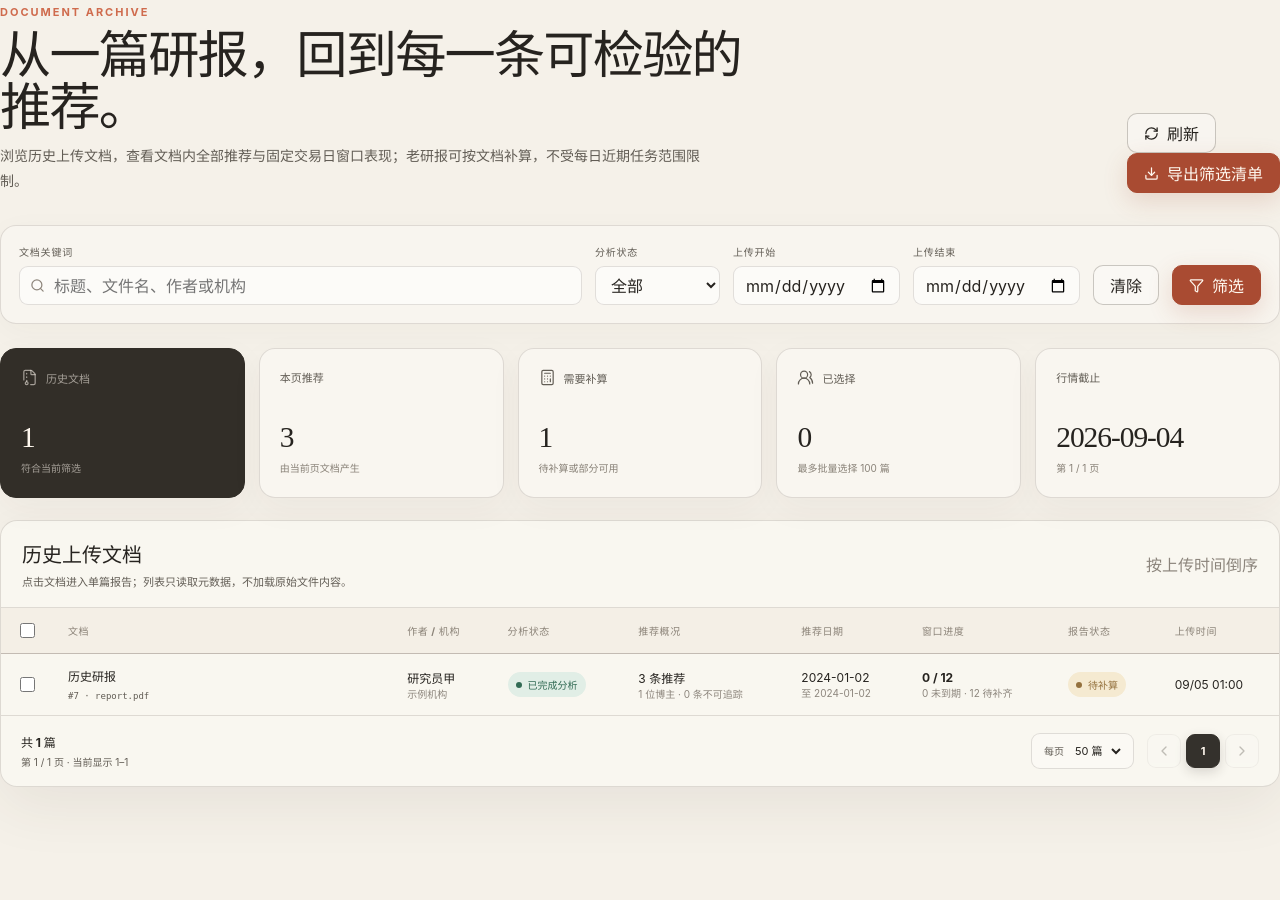
Test: DocumentReportsView › lists historical documents and submits selected documents for evaluation
Click the checkbox named "选择文档 7".
click(28, 685)  # box [20, 677, 35, 692]
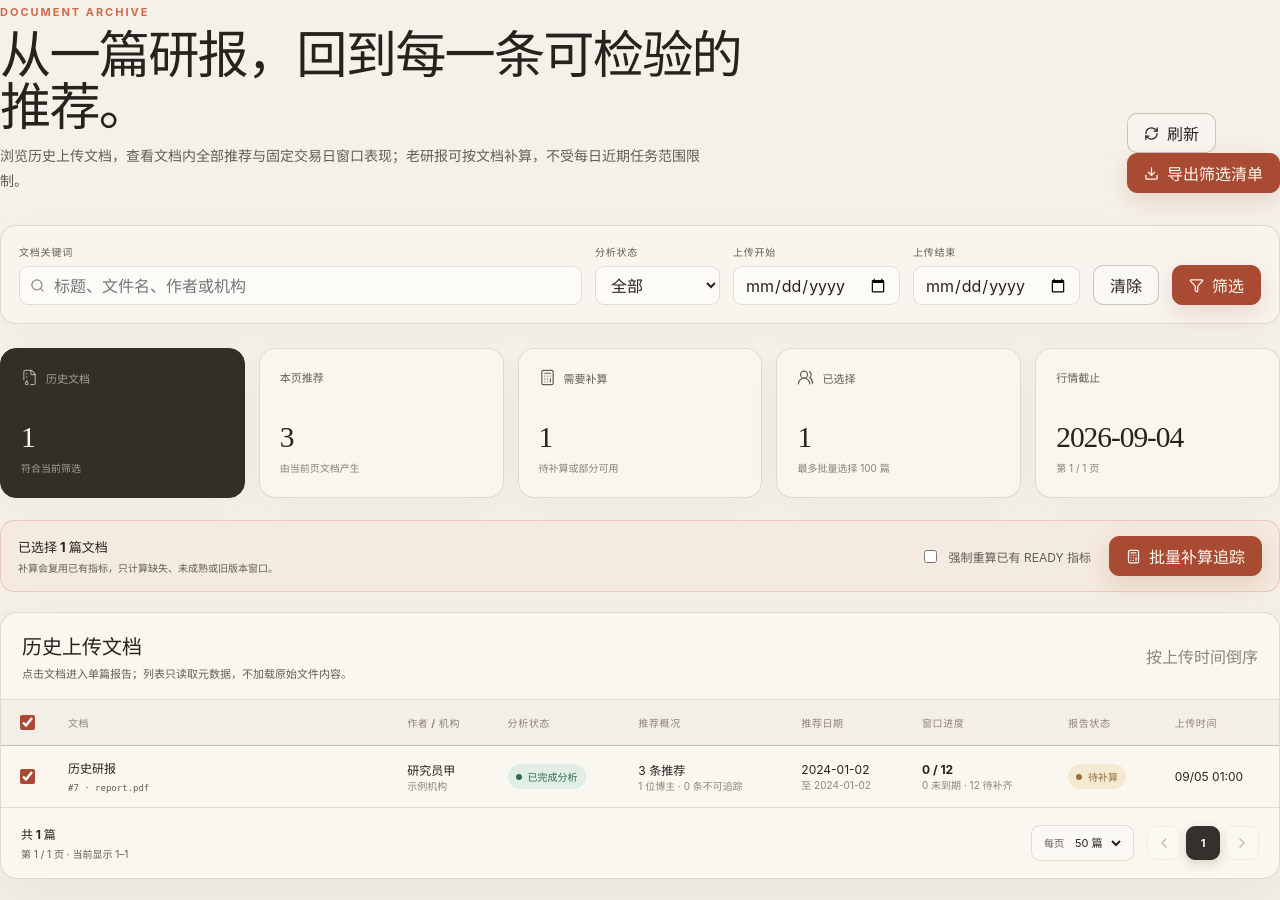
Click the button "批量补算追踪".
click(1186, 556)  # box [1109, 536, 1262, 576]
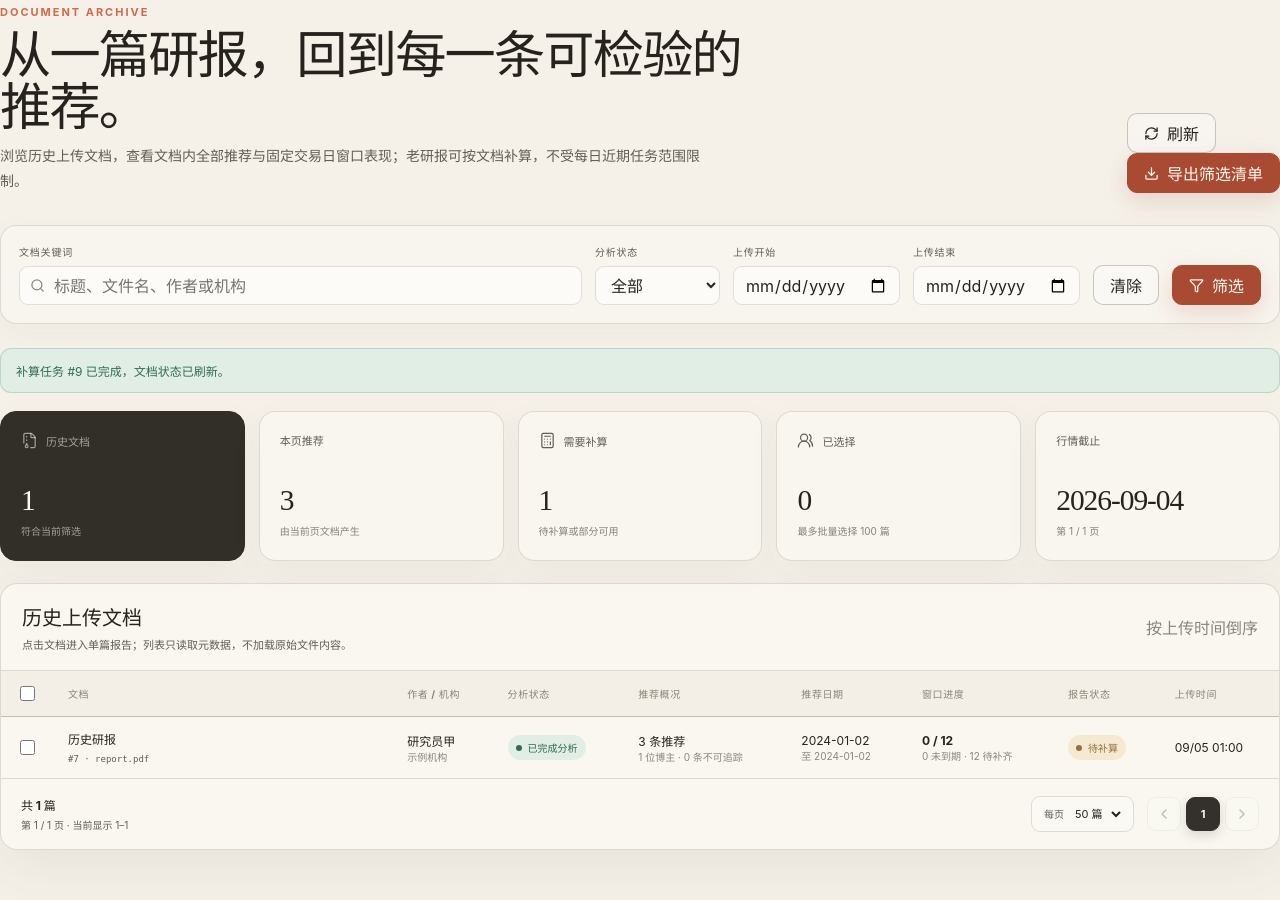
Result: the text "补算任务 #9 已完成" is shown at [16, 364, 230, 379]
